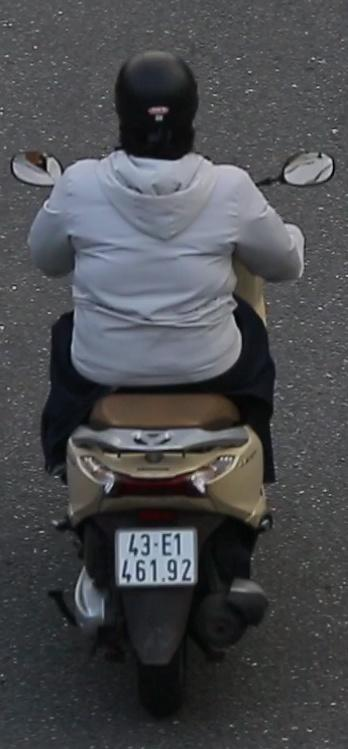LP: (111, 523, 202, 594)
helmet: (108, 45, 208, 177)
